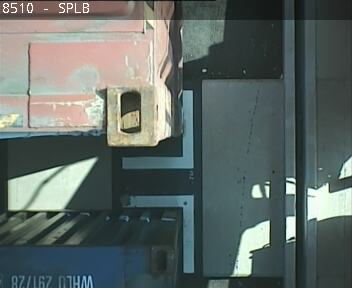groundmarker_1: (125, 89, 193, 274)
